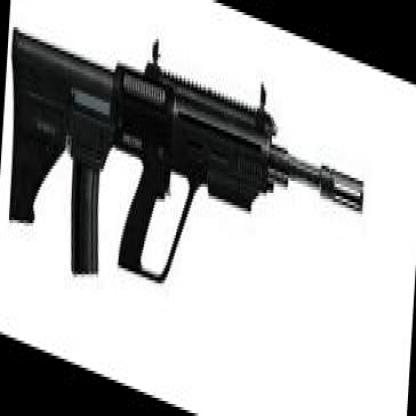rifle: (0, 0, 367, 395)
